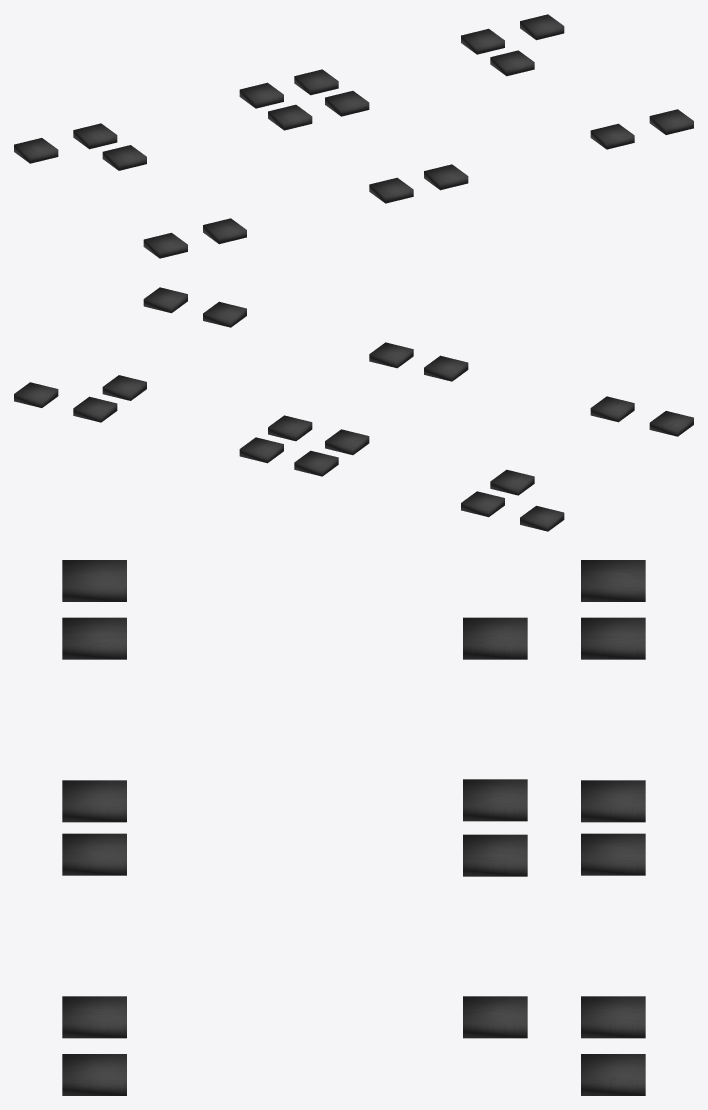
File: sofa_design1_foots1.obj
3 views of the same model, one above another, from view 1: azimuth 30°, elevation 25°; view 2: azimuth 150°, elevation 25°; view 3: azimuth 270°, elevation 25° (orthographic). The views are drawn at different scales.
Parts seen in each view (by area): view 1: Box853; view 2: Box853; view 3: Box853.
Boxes of the visible parts, x1,y1,x2,y2 form: Box853: (14,14,693,258); Box853: (14,287,693,531); Box853: (62,560,645,1095).
Bounding box in the file's own units: 152 × 2 × 72.12.
Materials: 1 (1 with a texture image).
